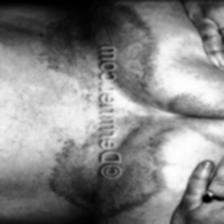Toxin: (44, 27, 76, 55), (80, 183, 114, 204)
